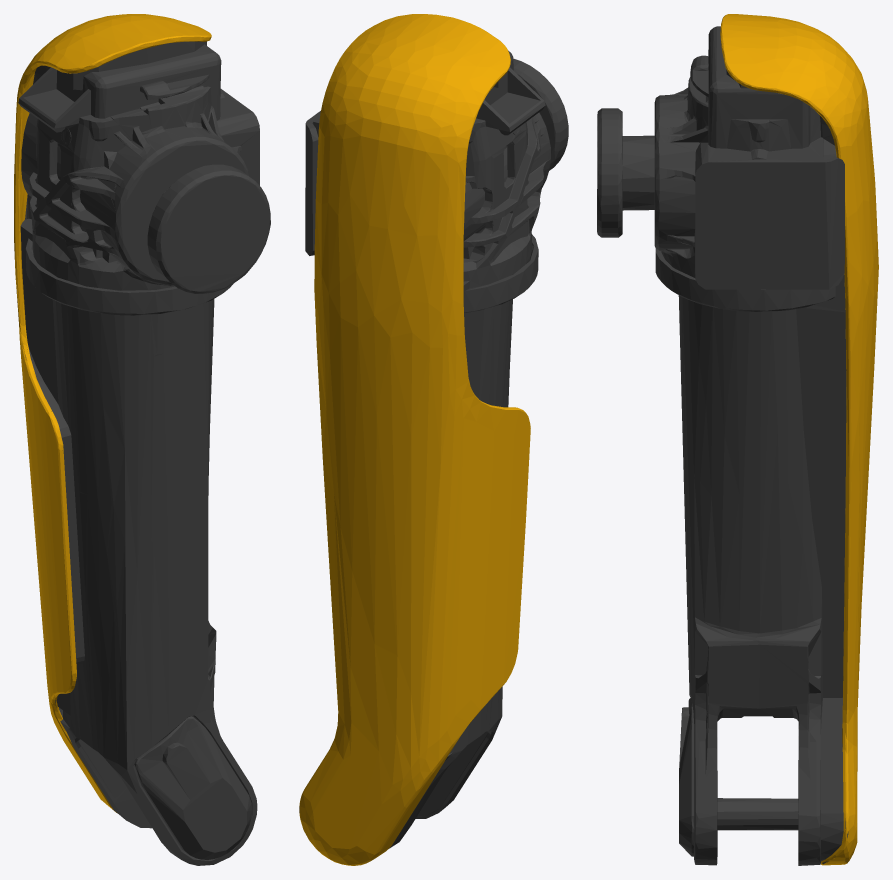
Rendered from rear_left_upper_leg.dae.
3 views of the same model, side by side, from view 1: azimuth 30°, elevation 25°; view 2: azimuth 150°, elevation 25°; view 3: azimuth 270°, elevation 25° (orthographic). The views are drawn at different scales.
Visible parts, largest first — view 1: rear_left_upper_leg; view 2: rear_left_upper_leg; view 3: rear_left_upper_leg.
Part boxes in pixels (x1=…): rear_left_upper_leg: x1=14, y1=14, x2=270, y2=865; rear_left_upper_leg: x1=299, y1=14, x2=568, y2=865; rear_left_upper_leg: x1=597, y1=14, x2=878, y2=865.
Size of the model in its own units: 0.1013 by 0.1322 by 0.4185.
